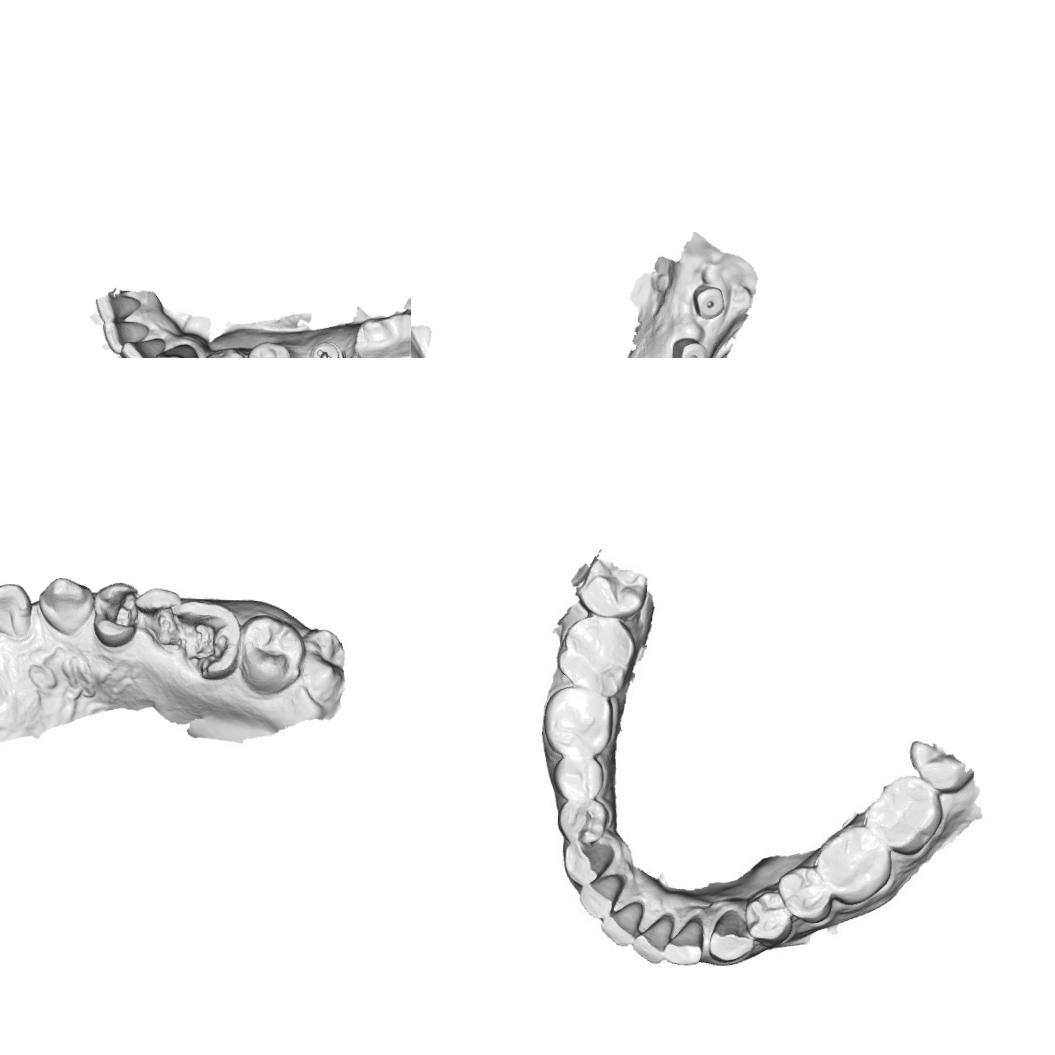canine: (36, 574, 96, 638), (560, 838, 614, 886), (710, 906, 756, 960), (152, 341, 201, 358)
implant: (692, 282, 727, 322), (670, 336, 708, 358)
implant_minus: (306, 339, 348, 358)
incisor: (665, 917, 712, 970), (576, 872, 626, 919), (634, 912, 674, 964), (0, 580, 33, 642), (599, 900, 640, 947), (100, 320, 151, 355), (94, 290, 141, 325), (119, 335, 166, 358)
molar: (538, 680, 618, 761), (866, 774, 943, 855), (820, 823, 894, 907), (554, 614, 633, 691), (236, 614, 305, 698), (298, 626, 346, 703), (351, 310, 411, 358)
premolar: (777, 862, 833, 925), (91, 579, 141, 648), (555, 748, 609, 805), (742, 889, 796, 942), (560, 798, 608, 845), (245, 340, 294, 358), (198, 346, 248, 358)
